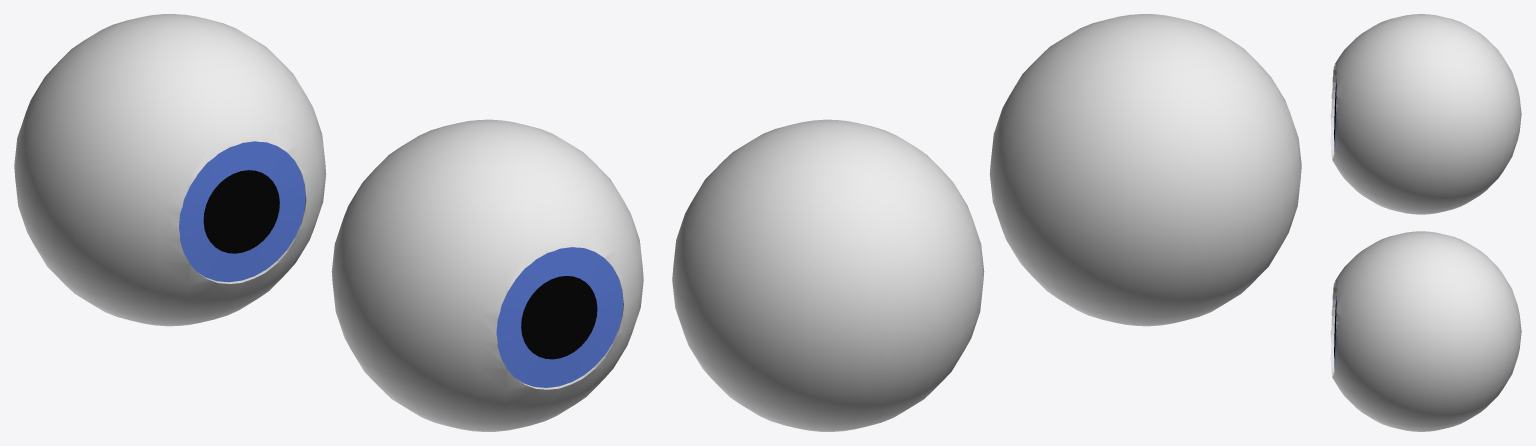
Rendered from TheEyes.glb.
The picture shows the model from 3 angles, left to right: view 1: azimuth 30°, elevation 25°; view 2: azimuth 150°, elevation 25°; view 3: azimuth 270°, elevation 25°; orthographic projection. The views are drawn at different scales.
Visible parts, largest first — view 1: EyeRight, EyeLeft; view 2: EyeRight, EyeLeft; view 3: EyeRight, EyeLeft.
Part boxes in pixels (x1,y1,x2,y2): EyeRight: [331, 119, 643, 431]; EyeLeft: [14, 14, 326, 326]; EyeRight: [672, 119, 984, 431]; EyeLeft: [989, 14, 1301, 326]; EyeRight: [1330, 231, 1521, 431]; EyeLeft: [1330, 14, 1521, 214].
Size of the model in its own units: 2.71 by 2.06 by 1.19.
